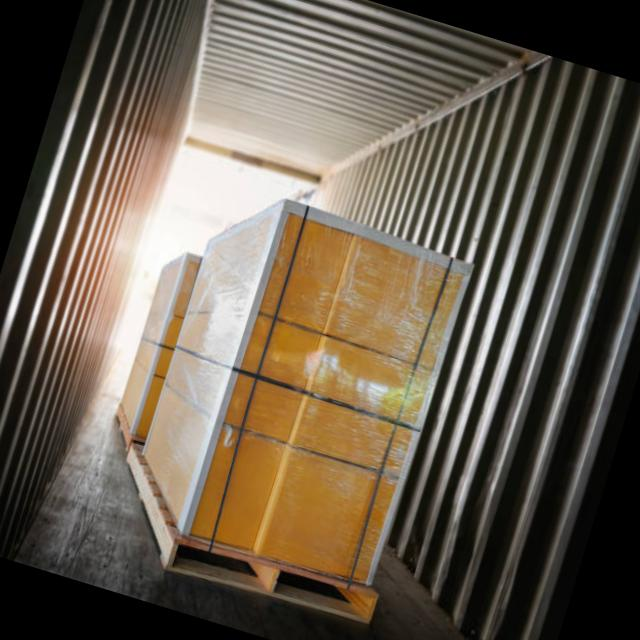Wooden-Pallets: (117, 430, 383, 634), (101, 388, 140, 463)
